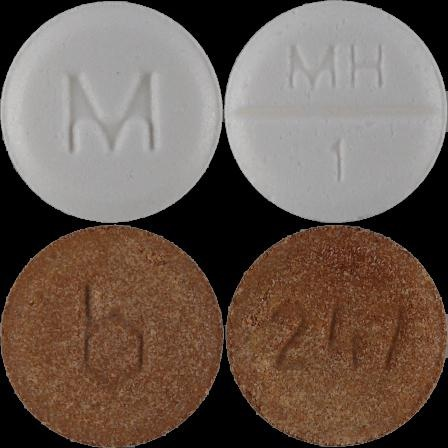54868-5930: (0, 0, 224, 224)
